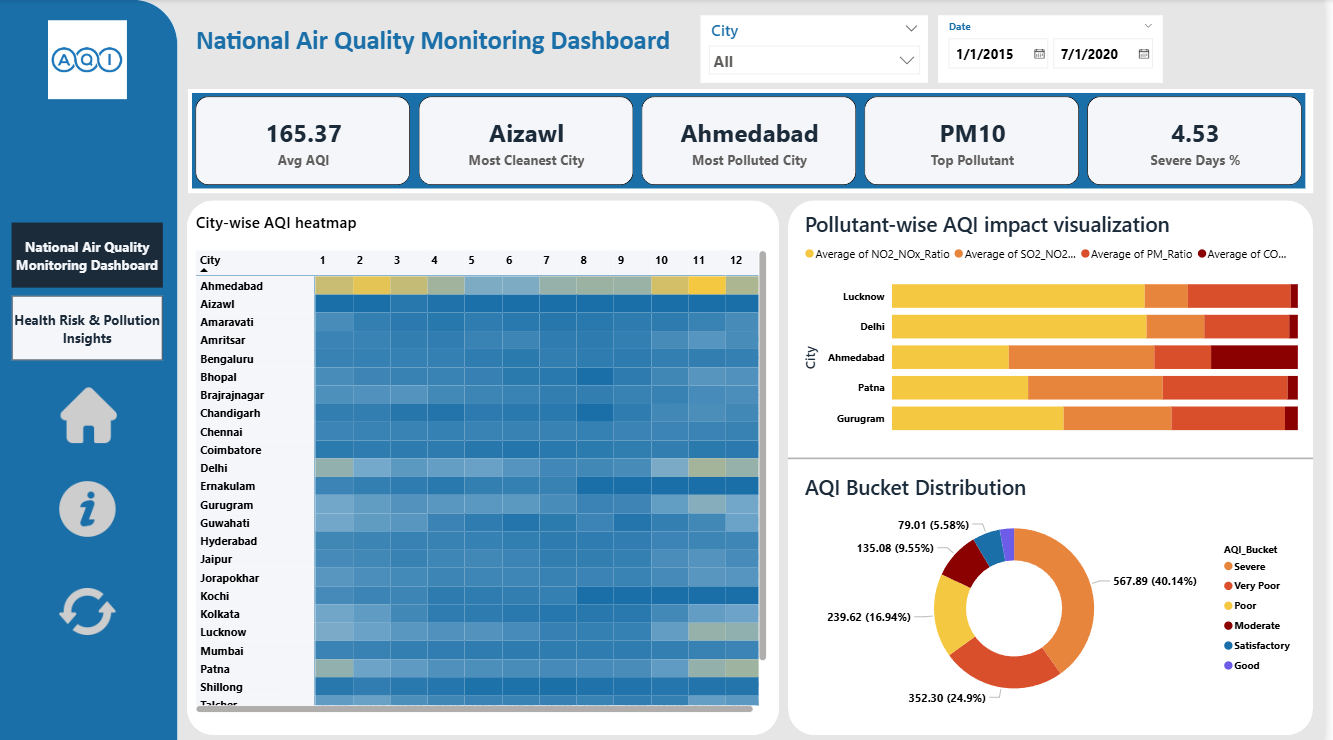

This screenshot's page, from the dashboard's own definition file:
{"tool":"powerbi","page":{"name":"National Air Quality Monitoring Dashboard","canvas":[1600,900],"ordinal":0},"visuals":[{"type":"shape","box":[227.7,242.8,714.8,645.4],"z":0},{"type":"shape","box":[0,0,217.2,900.3],"z":1000},{"type":"textbox","box":[22.6,25.6,1004.4,69.4],"z":2000},{"type":"cardVisual","fields":{"Data":["Measures Table.Avg AQI","Measures Table.Most Cleanest City","Measures Table.Most Polluted City","Measures Table.Top Pollutant","Measures Table.Severe Days %"]},"box":[229.6,108.6,1357.7,125.7],"z":3000},{"type":"pivotTable","fields":{"Rows":["Data.City"],"Columns":["Data.Month"],"Values":["Measures Table.Avg AQI"]},"box":[234.2,298.3,698.4,567.3],"z":4000},{"type":"shape","box":[953.1,242.8,633.4,645.4],"z":5000},{"type":"donutChart","title":"AQI Bucket Distribution","fields":{"Category":["Data.AQI_Bucket"],"Y":["Avg(Data.AQI)"]},"box":[968.2,571.6,604.7,294.1],"z":6000},{"type":"shape","box":[953.1,529.3,633.4,49.8],"z":7000},{"type":"slicer","fields":{"Values":["Data.City"]},"box":[847.5,19.6,274.5,81.4],"z":8000},{"type":"slicer","fields":{"Values":["Calender.Date"]},"box":[1134.1,19.6,271.4,81.4],"z":9000},{"type":"hundredPercentStackedBarChart","title":"Pollutant-wise AQI impact visualization","fields":{"Category":["Data.City"],"Y":["Avg(Data.NO2_NOx_Ratio)","Avg(Data.SO2_NO2_Ratio)","Avg(Data.PM_Ratio)","Avg(Data.CO_O3_Ratio)"]},"box":[967.9,253.9,605.3,287.5],"z":10000},{"type":"textbox","box":[234.2,252.3,457.2,36.2],"z":11000},{"type":"pageNavigator","box":[16.6,269.9,182.5,167.4],"z":12000},{"type":"image","box":[7.5,25.6,200.6,95],"z":13000},{"type":"image","box":[73.9,699.7,67.9,78.4],"z":14000},{"type":"image","box":[75.4,463,67.9,78.4],"z":15000},{"type":"image","box":[73.9,576.1,67.9,78.4],"z":16000}]}

Visuals, with their boxes on the page's 1600x900 design canvas (x1, y1, x2, y2). These are canvas units, not pixel positions in the 1333x740 screenshot, which may show the page scaled, cropped or inside an application window:
shape: l=228, t=243, r=942, b=888
shape: l=0, t=0, r=217, b=900
textbox: l=23, t=26, r=1027, b=95
cardVisual - Measures Table.Avg AQI x Measures Table.Most Cleanest City: l=230, t=109, r=1587, b=234
pivotTable - Data.City x Data.Month: l=234, t=298, r=933, b=866
shape: l=953, t=243, r=1586, b=888
"AQI Bucket Distribution" donutChart: l=968, t=572, r=1573, b=866
shape: l=953, t=529, r=1586, b=579
slicer - Data.City: l=848, t=20, r=1122, b=101
slicer - Calender.Date: l=1134, t=20, r=1406, b=101
"Pollutant-wise AQI impact visualization" hundredPercentStackedBarChart: l=968, t=254, r=1573, b=541
textbox: l=234, t=252, r=691, b=288
pageNavigator: l=17, t=270, r=199, b=437
image: l=8, t=26, r=208, b=121
image: l=74, t=700, r=142, b=778
image: l=75, t=463, r=143, b=541
image: l=74, t=576, r=142, b=654
